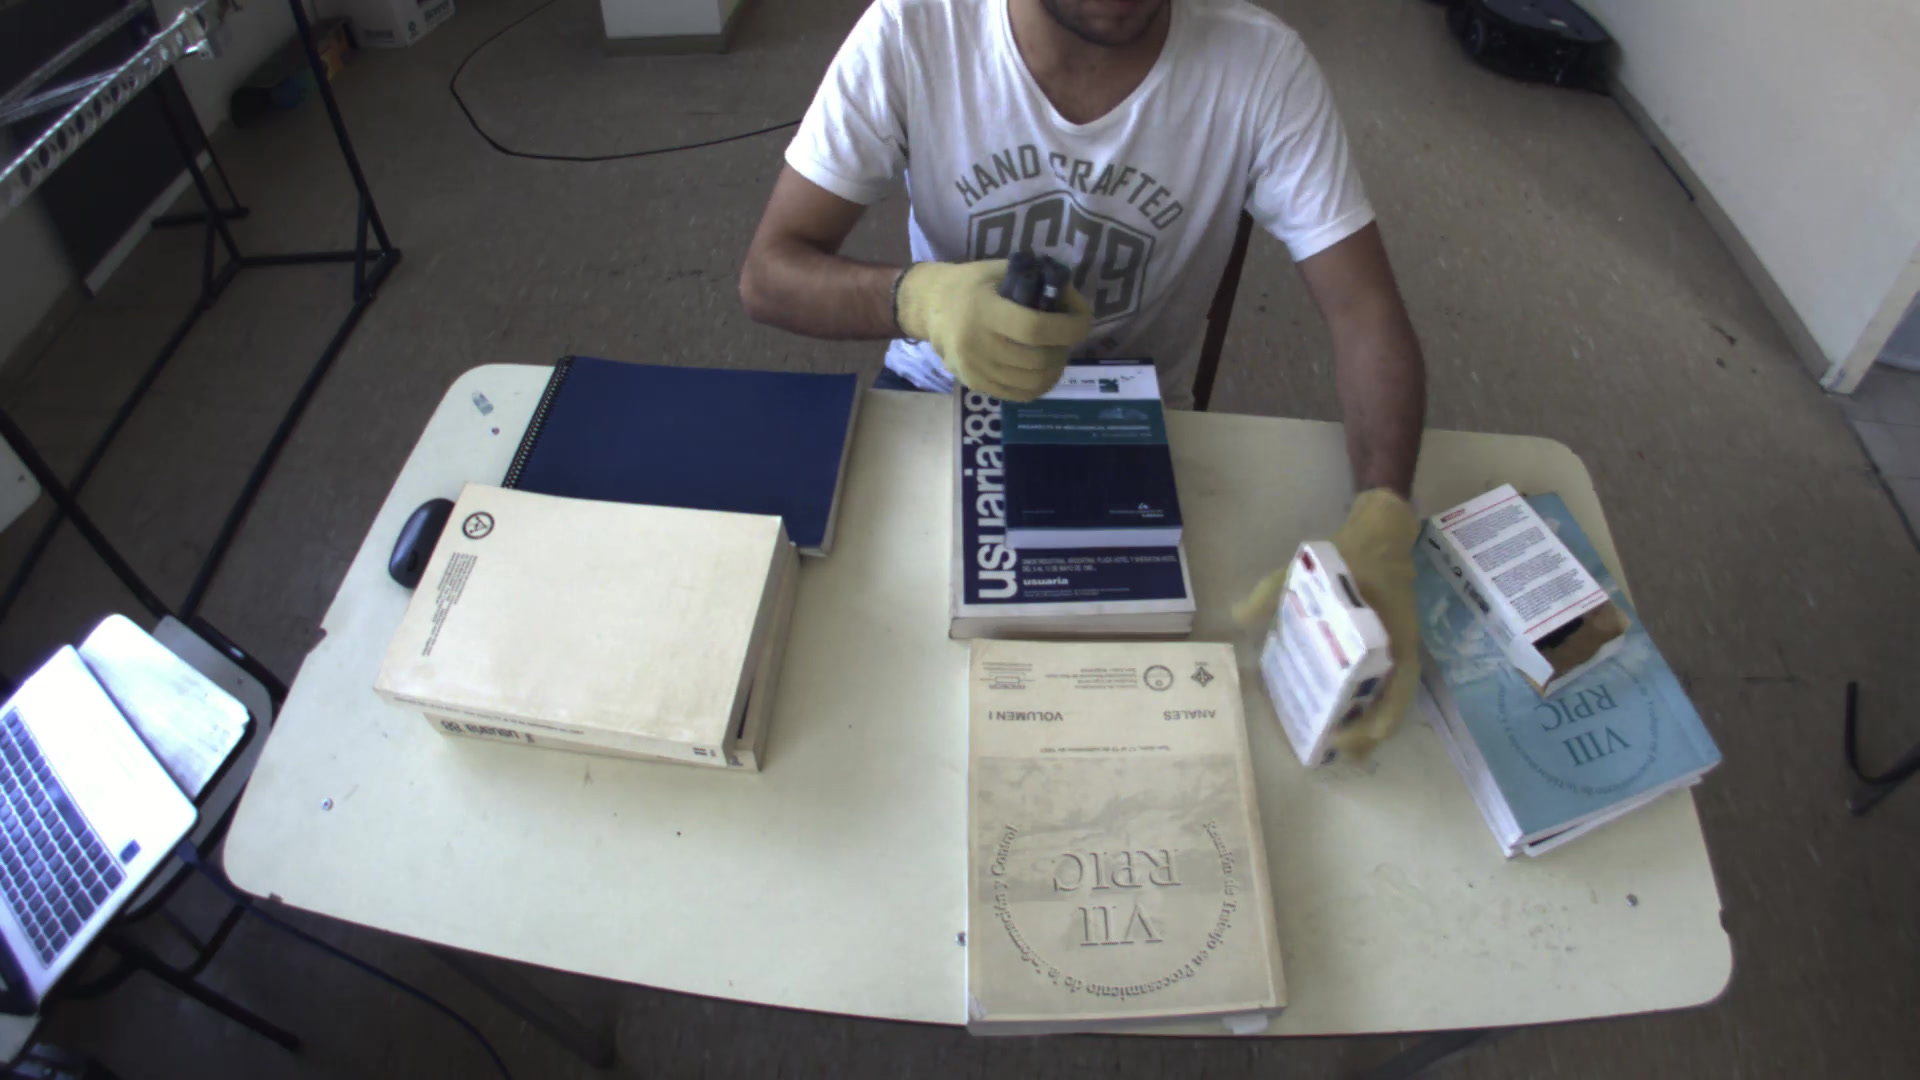hand: (887, 243, 1112, 404), (1340, 487, 1437, 673)
